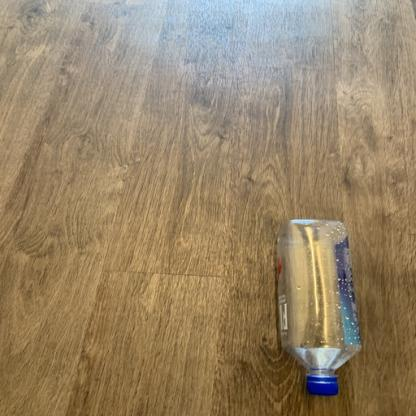trash: (280, 212, 362, 397)
